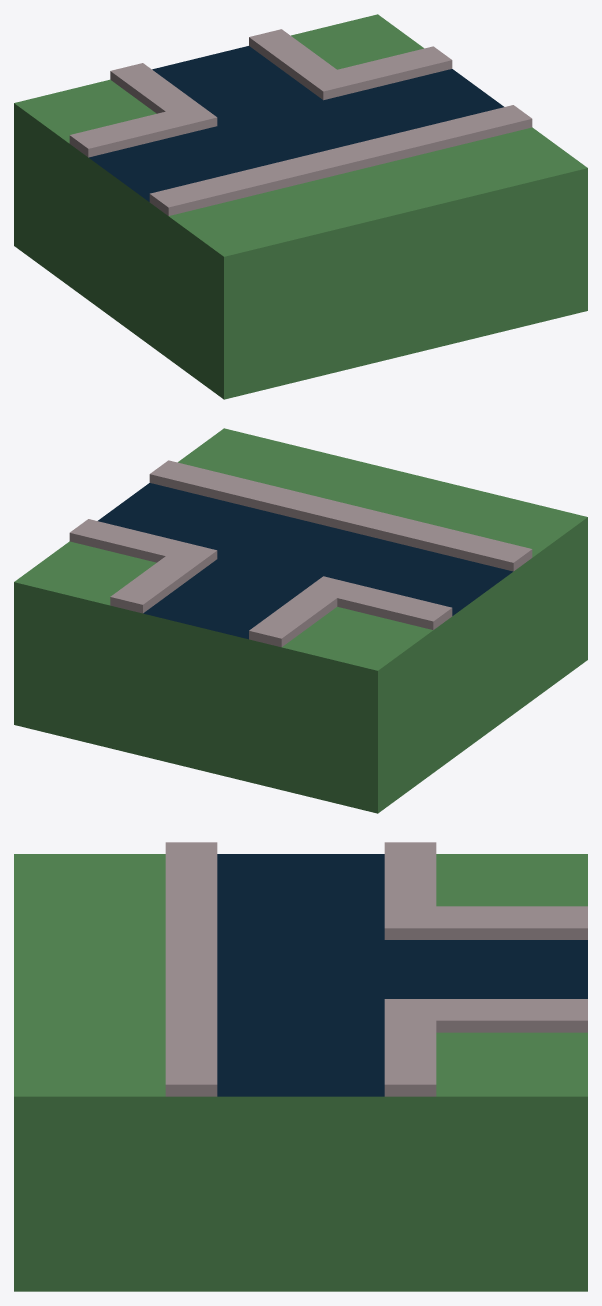
Rendered from 3wayCrossing.fbx.
3 views of the same model, one above another, from view 1: azimuth 30°, elevation 25°; view 2: azimuth 150°, elevation 25°; view 3: azimuth 270°, elevation 25° (orthographic). The views are drawn at different scales.
Parts seen in each view (by area): view 1: Cube.013; view 2: Cube.013; view 3: Cube.013.
Boxes of the visible parts, x1,y1,x2,y2 form: Cube.013: (14, 14, 587, 399); Cube.013: (14, 428, 587, 813); Cube.013: (14, 842, 587, 1291).
Bounding box in the file's own units: 400 × 159 × 400.
